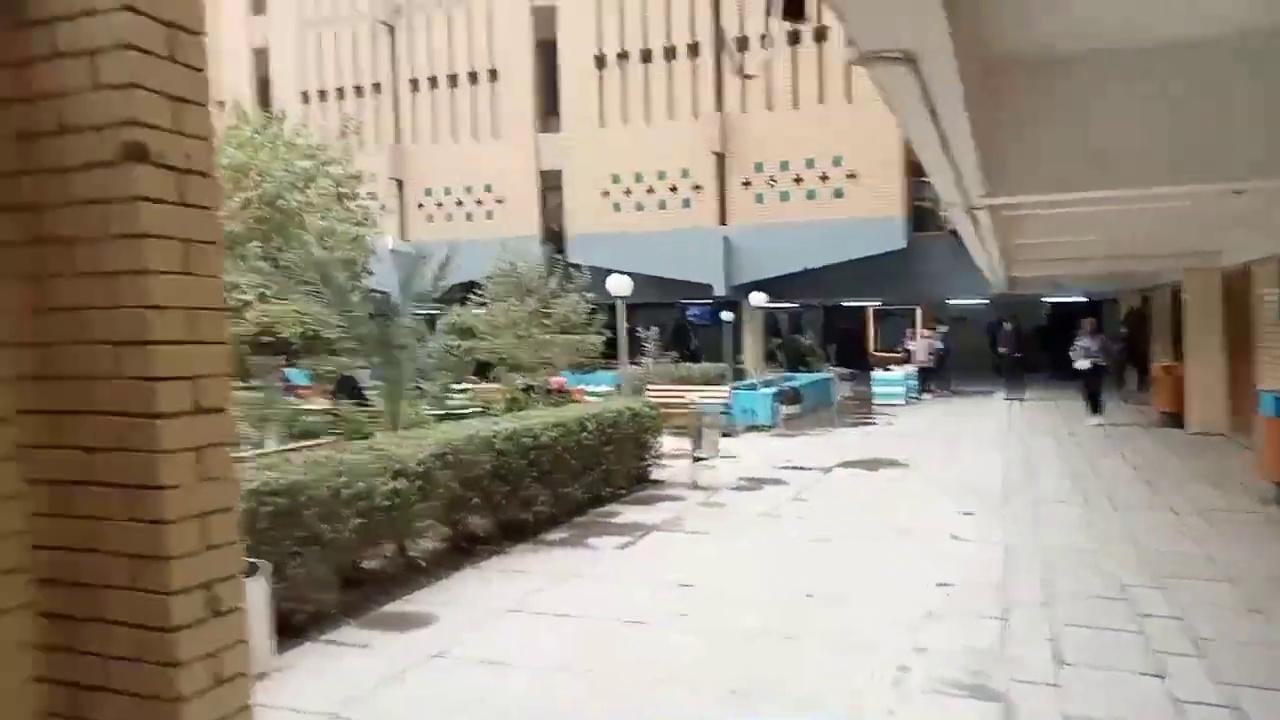person: (1070, 316, 1116, 415), (1125, 294, 1151, 392), (670, 305, 703, 363)
tree: (239, 398, 658, 605), (213, 97, 421, 431), (429, 242, 609, 392)
